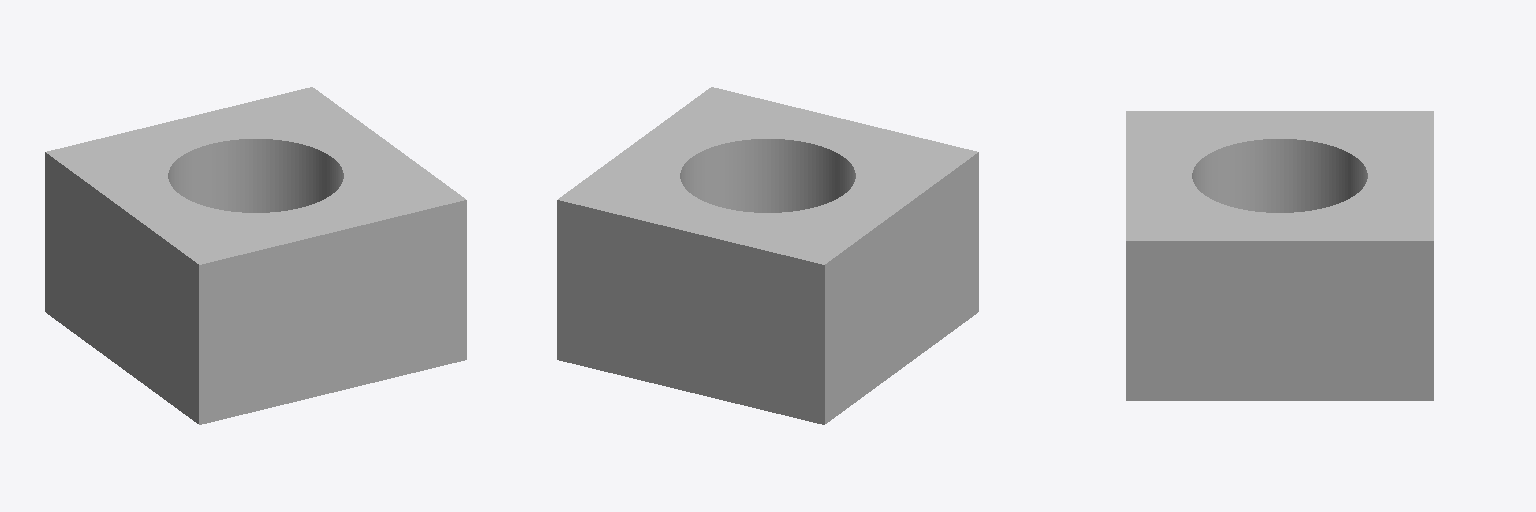
Rendered from nominal.obj.
3 views of the same model, side by side, from view 1: azimuth 30°, elevation 25°; view 2: azimuth 150°, elevation 25°; view 3: azimuth 270°, elevation 25° (orthographic).
Visible parts, largest first — view 1: nominal; view 2: nominal; view 3: nominal.
Boxes of the visible parts, box(x1,y1,x2,y2) form: nominal: box(45, 87, 466, 424); nominal: box(557, 87, 978, 424); nominal: box(1126, 111, 1433, 400).
Bounding box in the file's own units: 3.49 × 2 × 3.49.